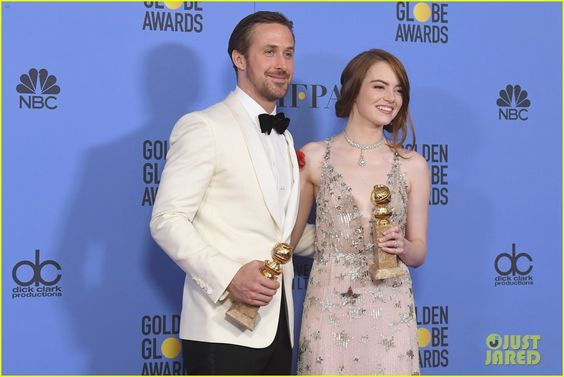hand: (381, 230, 404, 249)
